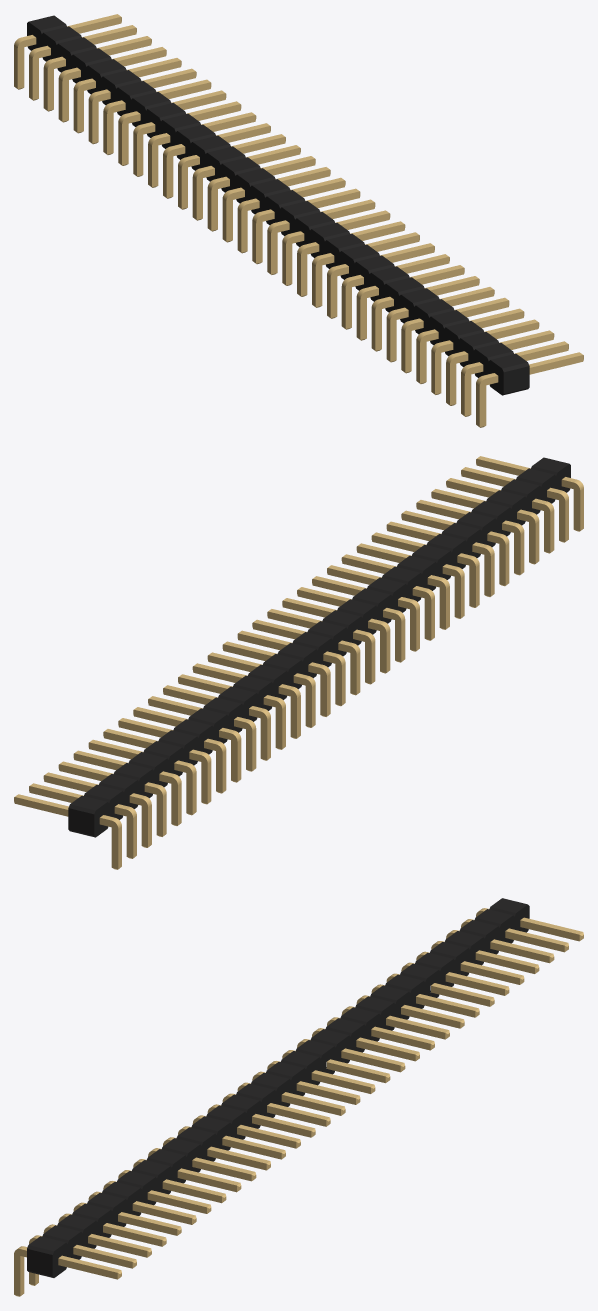
File: kc-pinheader_1x32_p2.54mm_horizontal.glb
3 renders of one model, top to bottom at view 1: azimuth 30°, elevation 25°; view 2: azimuth 150°, elevation 25°; view 3: azimuth 330°, elevation 25°, orthographic.
Visible parts, largest first — view 1: 0.75_0.5_0.25_0.9, 0_0_0_0; view 2: 0.75_0.5_0.25_0.9, 0_0_0_0; view 3: 0.75_0.5_0.25_0.9, 0_0_0_0.
Boxes of the visible parts, x1=… form: 0.75_0.5_0.25_0.9: x1=14, y1=14, x2=583, y2=427; 0_0_0_0: x1=27, y1=15, x2=529, y2=395; 0.75_0.5_0.25_0.9: x1=14, y1=456, x2=583, y2=869; 0_0_0_0: x1=68, y1=457, x2=570, y2=837; 0.75_0.5_0.25_0.9: x1=14, y1=908, x2=583, y2=1296; 0_0_0_0: x1=27, y1=898, x2=529, y2=1277.
Bounding box in the file's own units: 1.04 × 0.5542 × 8.13.
